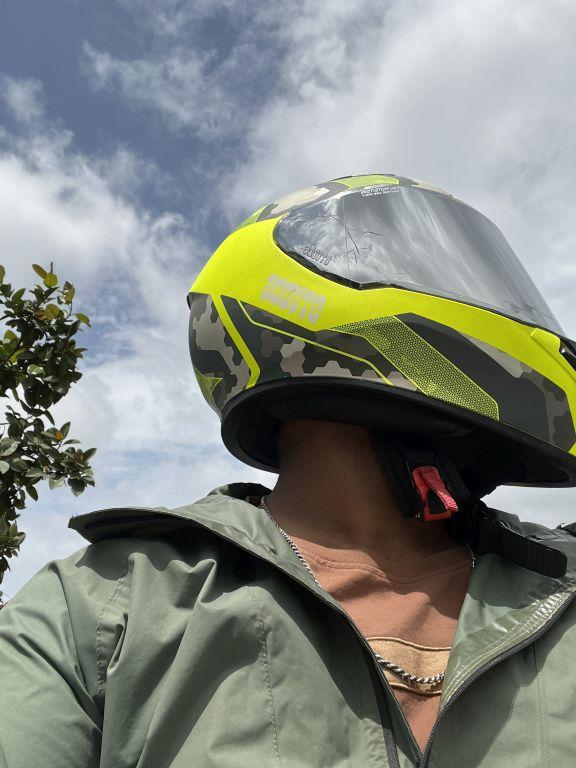helmet: (172, 155, 576, 510)
